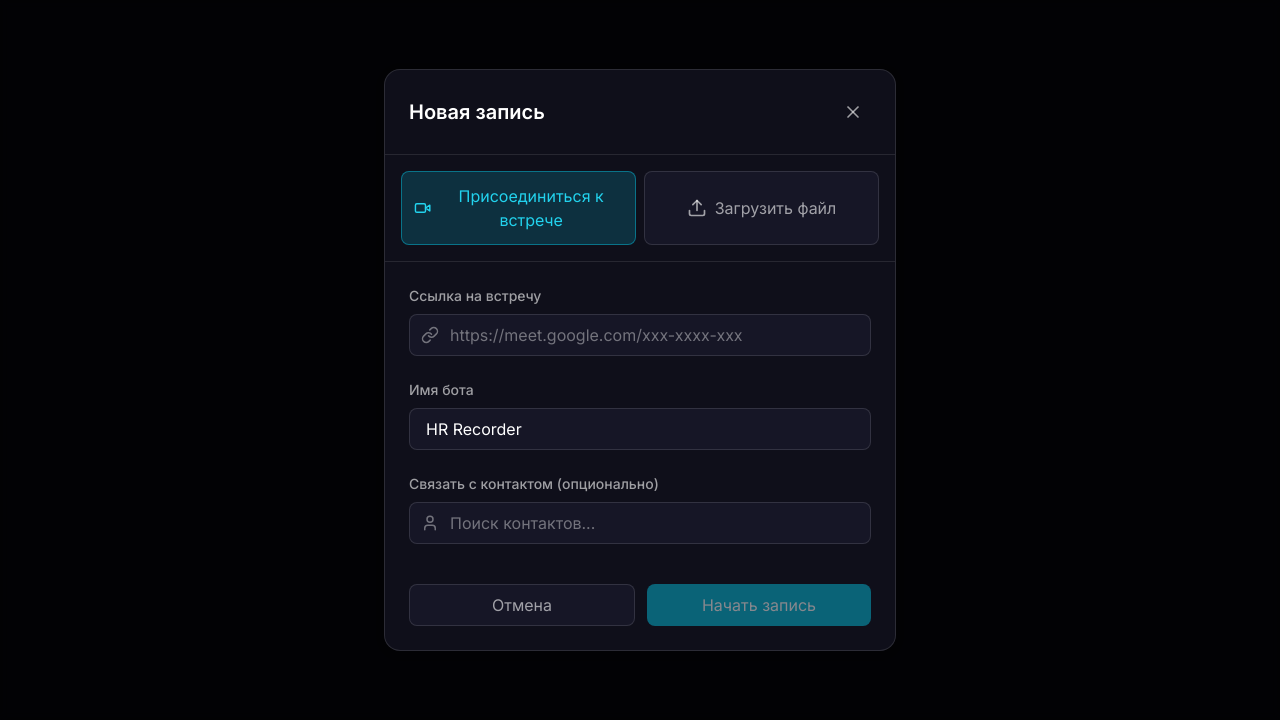
Test case: CallRecorderModal › Bot Mode › should show error for invalid URL
The image size is (1280, 720).
Type "https://invalid-url.com" into the field with placeholder "https://meet.google.com/xxx-xxxx-xxx". click: (640, 335)
box: [409,314,871,356]
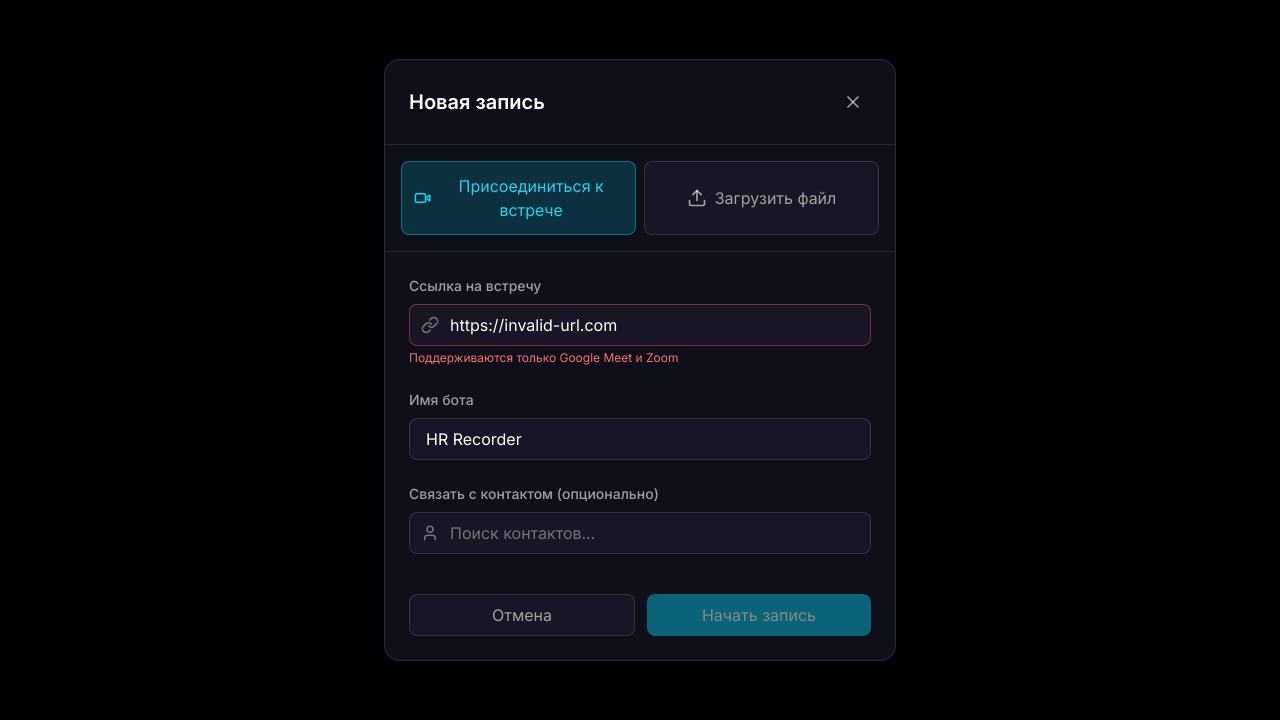
Check: the text "Поддерживаются только Google Meet и Zoom" is shown, box [409,350,678,365]
